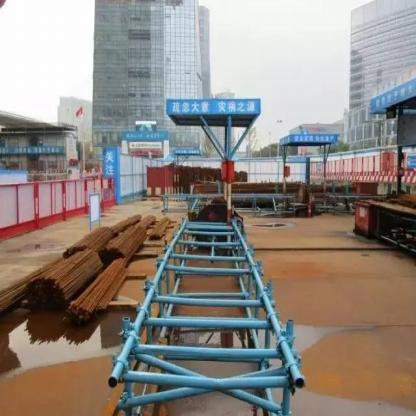rebar: (0, 212, 172, 330)
